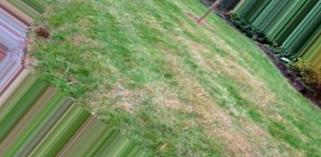patch: (212, 71, 266, 152), (158, 69, 216, 107), (210, 49, 236, 133)
